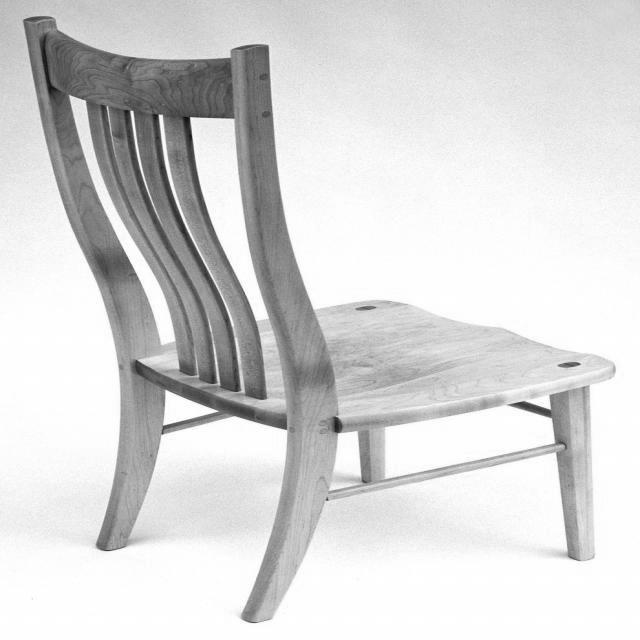chair: (22, 16, 620, 622)
